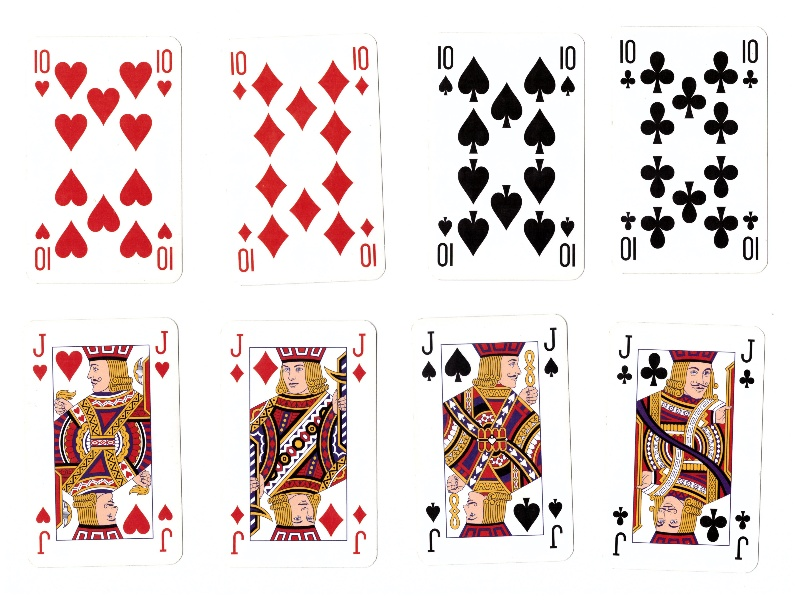Jc: (738, 336, 757, 393), (610, 506, 630, 559), (616, 332, 635, 387), (733, 510, 751, 566)
Jd: (350, 329, 370, 386), (349, 501, 369, 558), (228, 503, 247, 558), (228, 330, 246, 386)
Jh: (154, 326, 173, 385), (34, 503, 53, 558), (156, 501, 175, 556), (31, 330, 49, 384)
Js: (542, 324, 563, 382), (546, 495, 567, 552), (423, 501, 444, 556), (420, 327, 438, 385)
Tc: (739, 208, 763, 266), (617, 210, 639, 264), (617, 36, 638, 92), (740, 37, 761, 93)
Td: (349, 43, 372, 100), (357, 215, 380, 271), (227, 48, 250, 103), (235, 221, 257, 278)
Th: (153, 221, 178, 274), (31, 220, 53, 275), (153, 47, 176, 99), (31, 44, 52, 98)
Ts: (434, 213, 457, 273), (557, 43, 578, 101), (434, 42, 456, 97), (558, 214, 579, 271)
